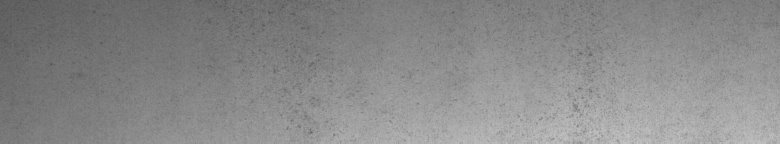ib: (536, 47, 592, 124)
